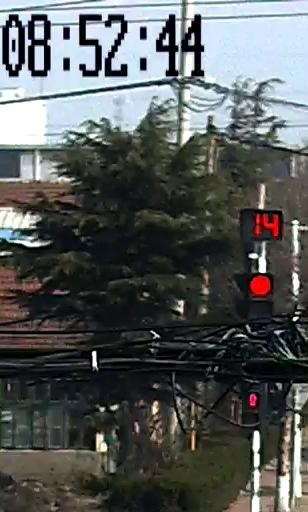red: (249, 275, 272, 300)
redpeople: (244, 389, 268, 412)
redtime: (246, 207, 288, 243)
